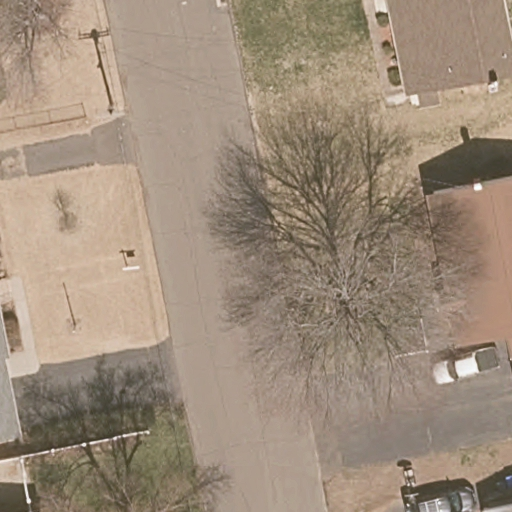DT: (98, 87, 124, 117)
